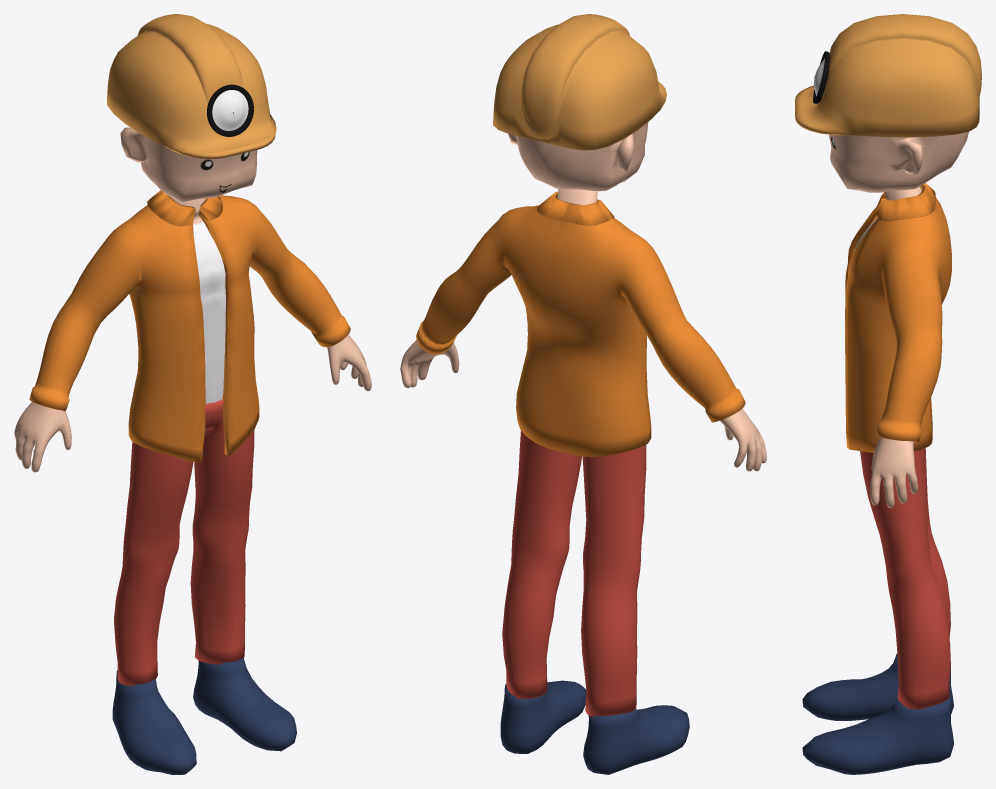
File: worker.fbx
3 views of the same model, side by side, from view 1: azimuth 30°, elevation 25°; view 2: azimuth 150°, elevation 25°; view 3: azimuth 270°, elevation 25° (orthographic). The views are drawn at different scales.
Parts seen in each view (by area): view 1: head 2.001; view 2: head 2.001; view 3: head 2.001.
Part boxes in pixels (x1,y1,x2,y2): head 2.001: [14, 14, 371, 774]; head 2.001: [400, 14, 766, 774]; head 2.001: [795, 14, 981, 774].
Size of the model in its own units: 176 by 346 by 81.22.
